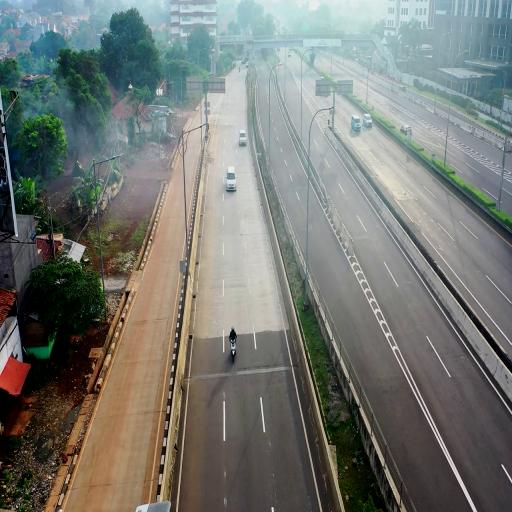vehicle: (224, 168, 236, 192), (350, 115, 362, 135), (362, 114, 372, 132)
